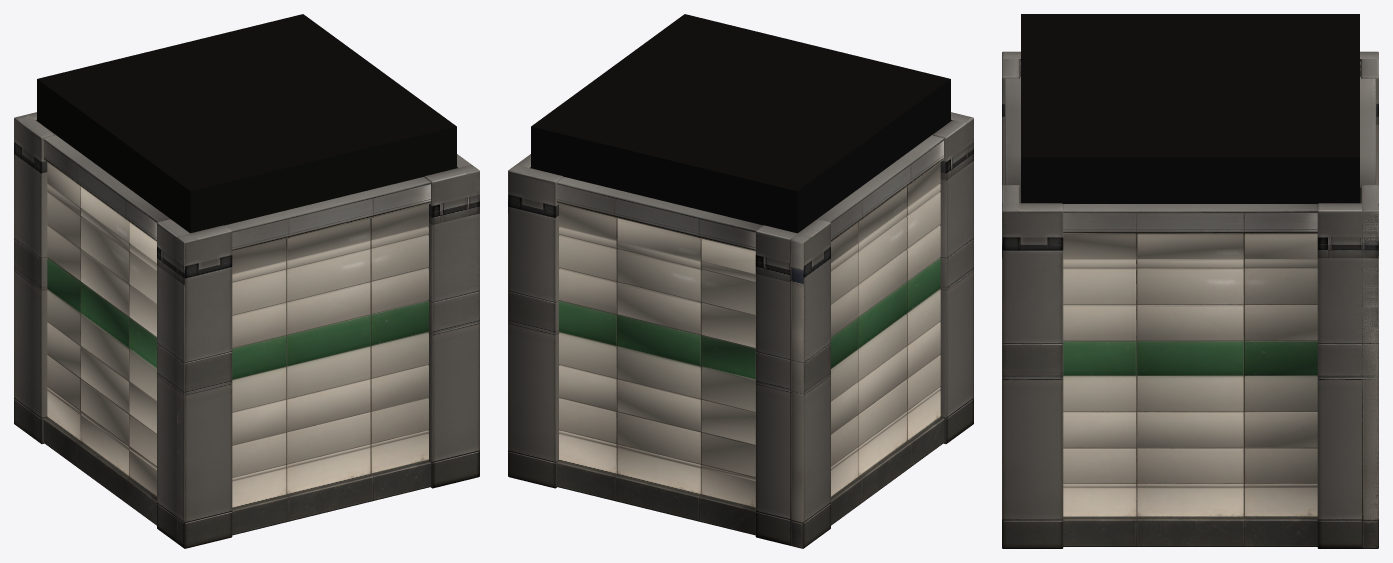
File: wall_a.fbx
3 views of the same model, side by side, from view 1: azimuth 30°, elevation 25°; view 2: azimuth 150°, elevation 25°; view 3: azimuth 270°, elevation 25° (orthographic). The views are drawn at different scales.
Visible parts, largest first — view 1: Face_N, Core, Face_W, Face_E, Face_S; view 2: Face_S, Core, Face_W, Face_E, Face_N; view 3: Face_E, Core, Face_N, Face_S, Face_W.
Part boxes in pixels (x1=…): Face_N: x1=157, y1=154, x2=479, y2=548; Core: x1=37, y1=14, x2=456, y2=233; Face_W: x1=14, y1=112, x2=232, y2=548; Face_E: x1=424, y1=165, x2=479, y2=488; Face_S: x1=14, y1=115, x2=54, y2=443; Face_S: x1=508, y1=154, x2=830, y2=548; Core: x1=531, y1=14, x2=950, y2=233; Face_W: x1=755, y1=112, x2=973, y2=548; Face_E: x1=508, y1=165, x2=563, y2=488; Face_N: x1=933, y1=117, x2=973, y2=443; Face_E: x1=1002, y1=185, x2=1378, y2=548; Core: x1=1021, y1=14, x2=1359, y2=203; Face_N: x1=1002, y1=51, x2=1063, y2=548; Face_S: x1=1317, y1=51, x2=1378, y2=548; Face_W: x1=1002, y1=51, x2=1378, y2=185.
Bounding box in the file's own units: 4 × 4.5 × 4.
